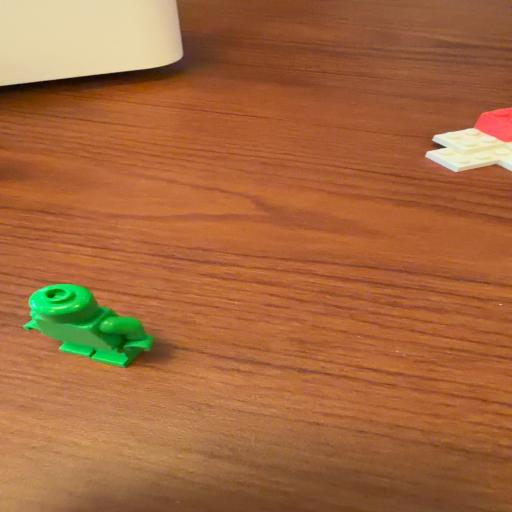UnoQ-minifig-detector: (23, 283, 154, 368)
